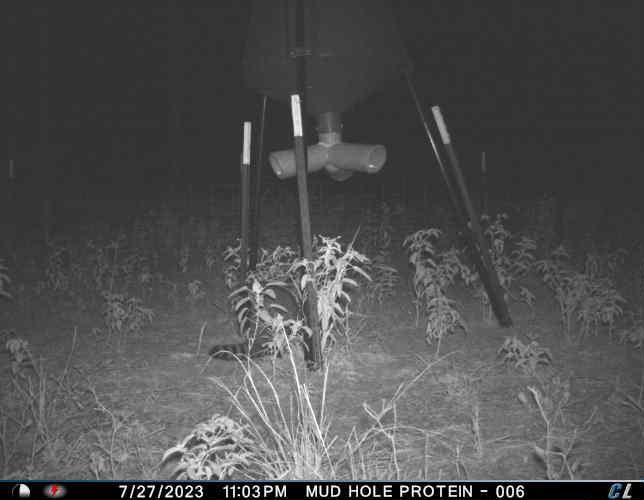Raccoon: (209, 283, 302, 361)
